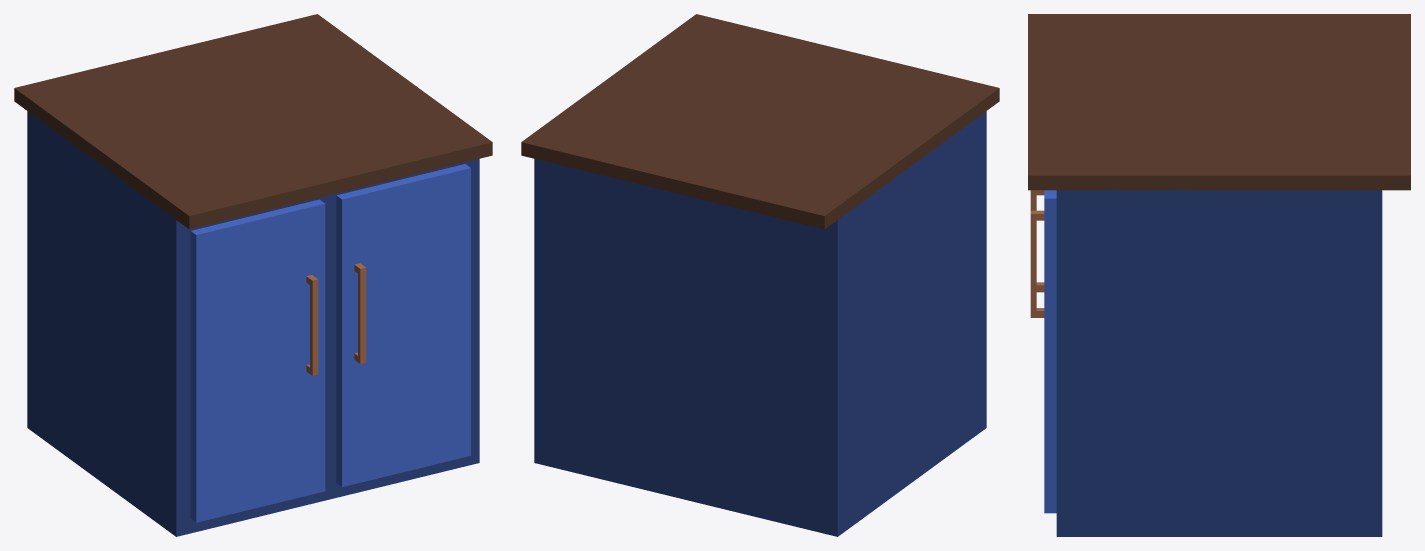
File: drawer_1.fbx
3 renders of one model, left to right at view 1: azimuth 30°, elevation 25°; view 2: azimuth 150°, elevation 25°; view 3: azimuth 270°, elevation 25°, orthographic. The views are drawn at different scales.
Parts seen in each view (by area): view 1: Cube_5, Cube_4, Cube_1, Cube_4_2, Cube_2, Cube; view 2: Cube_5, Cube_4; view 3: Cube_5, Cube_4, Cube_4_2, Cube.
Part boxes in pixels (x1,y1,x2,y2): Cube_5: [27, 111, 479, 536]; Cube_4: [14, 14, 492, 229]; Cube_1: [190, 199, 325, 522]; Cube_4_2: [336, 164, 470, 486]; Cube_2: [306, 275, 318, 375]; Cube: [354, 263, 366, 364]; Cube_5: [534, 111, 986, 536]; Cube_4: [521, 14, 999, 229]; Cube_5: [1056, 190, 1382, 536]; Cube_4: [1028, 14, 1410, 190]; Cube_4_2: [1044, 190, 1056, 513]; Cube: [1030, 210, 1044, 317].
Size of the model in its own units: 200 by 208 by 200.
